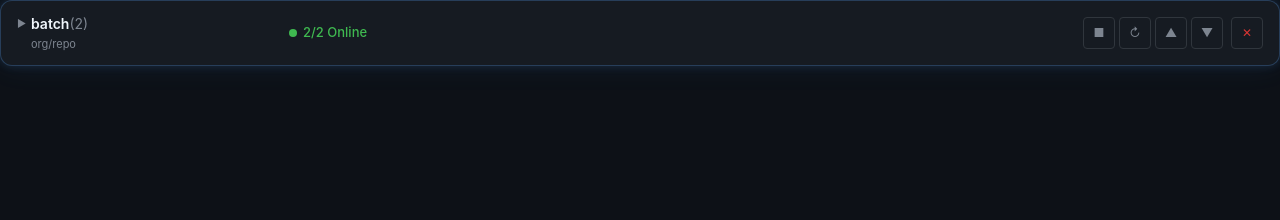
Scenario: RunnerTable › expands group on click to show individual runners
Click the group row to expand
Click the text "batch": coordinates (50, 24) [31,13,70,34]
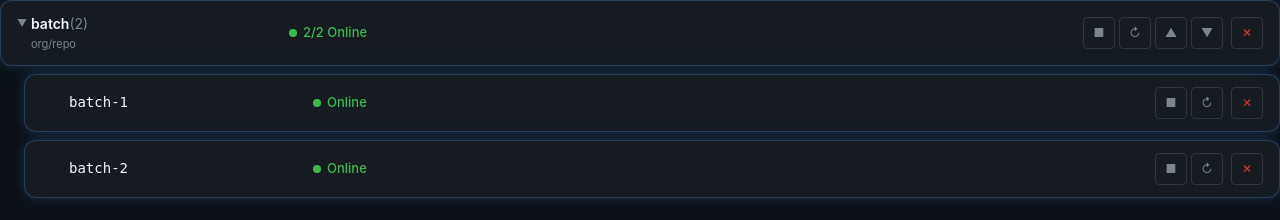
Expected: the text "batch-1" is shown, [69,92,128,113]
Expected: the text "batch-2" is shown, [69,158,128,179]
